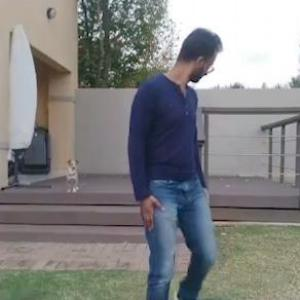follow: (128, 20, 238, 298)
